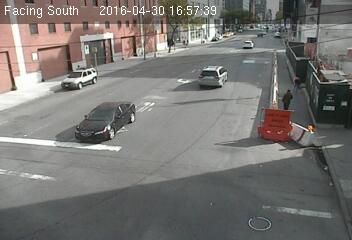neg: (147, 44, 170, 75), (195, 59, 212, 82), (72, 59, 88, 80), (247, 41, 260, 59)
pos: (276, 88, 298, 117), (288, 69, 307, 95)
